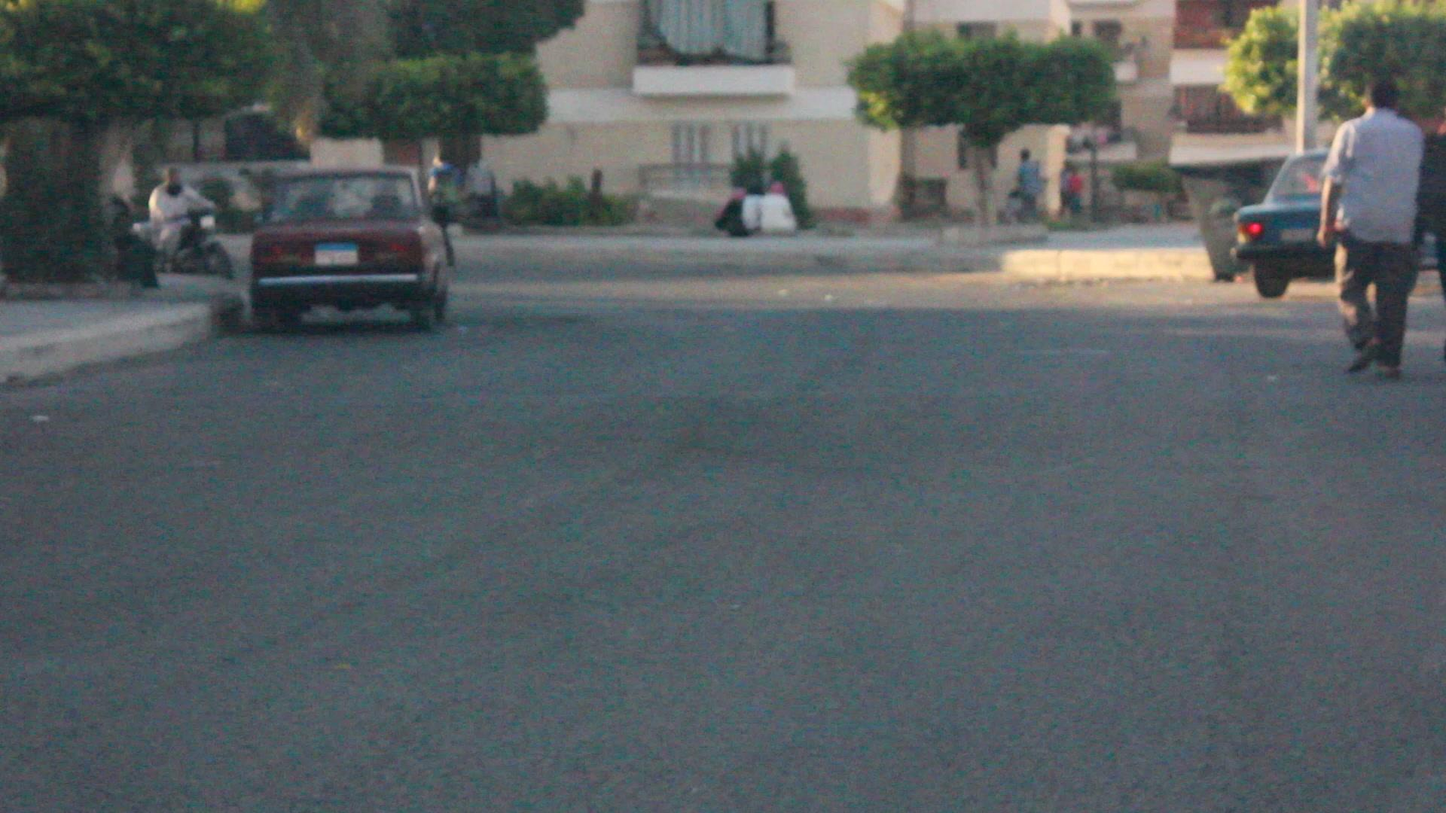Bump: (0, 380, 1444, 501)
